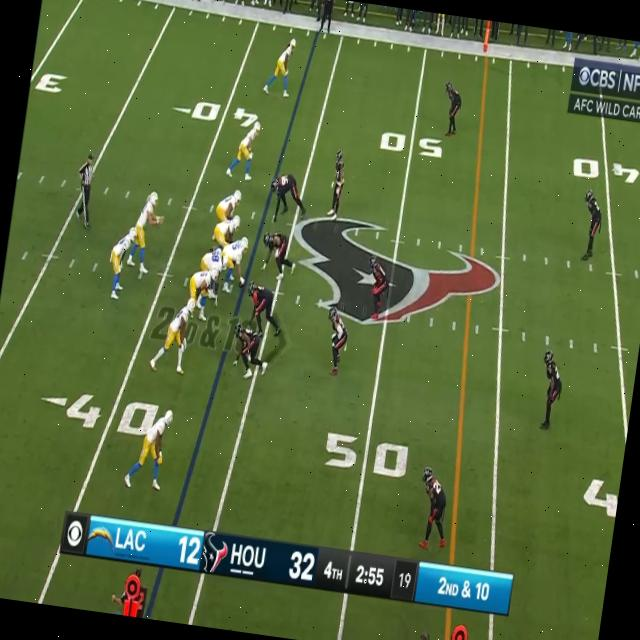Player: (414, 464, 455, 550), (134, 406, 174, 490), (158, 296, 196, 375), (536, 348, 566, 431), (129, 190, 159, 272), (106, 223, 136, 300), (321, 305, 352, 376), (578, 188, 605, 262), (362, 254, 392, 320), (264, 170, 302, 222), (229, 323, 264, 379), (234, 119, 261, 182), (222, 234, 250, 292), (244, 280, 279, 326), (258, 230, 290, 280), (326, 148, 348, 220), (272, 36, 297, 96), (440, 81, 464, 138), (188, 266, 219, 302), (212, 210, 241, 247), (216, 184, 242, 220), (200, 247, 230, 274)
Referee: (74, 154, 99, 225)
